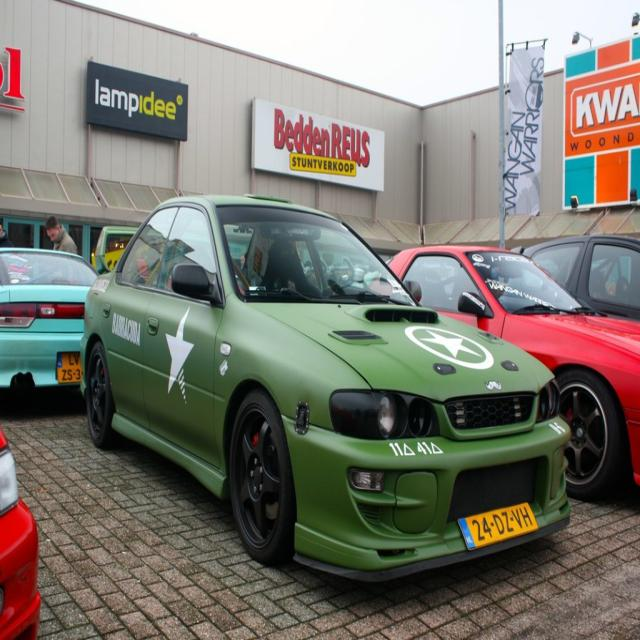car: (80, 194, 575, 584)
